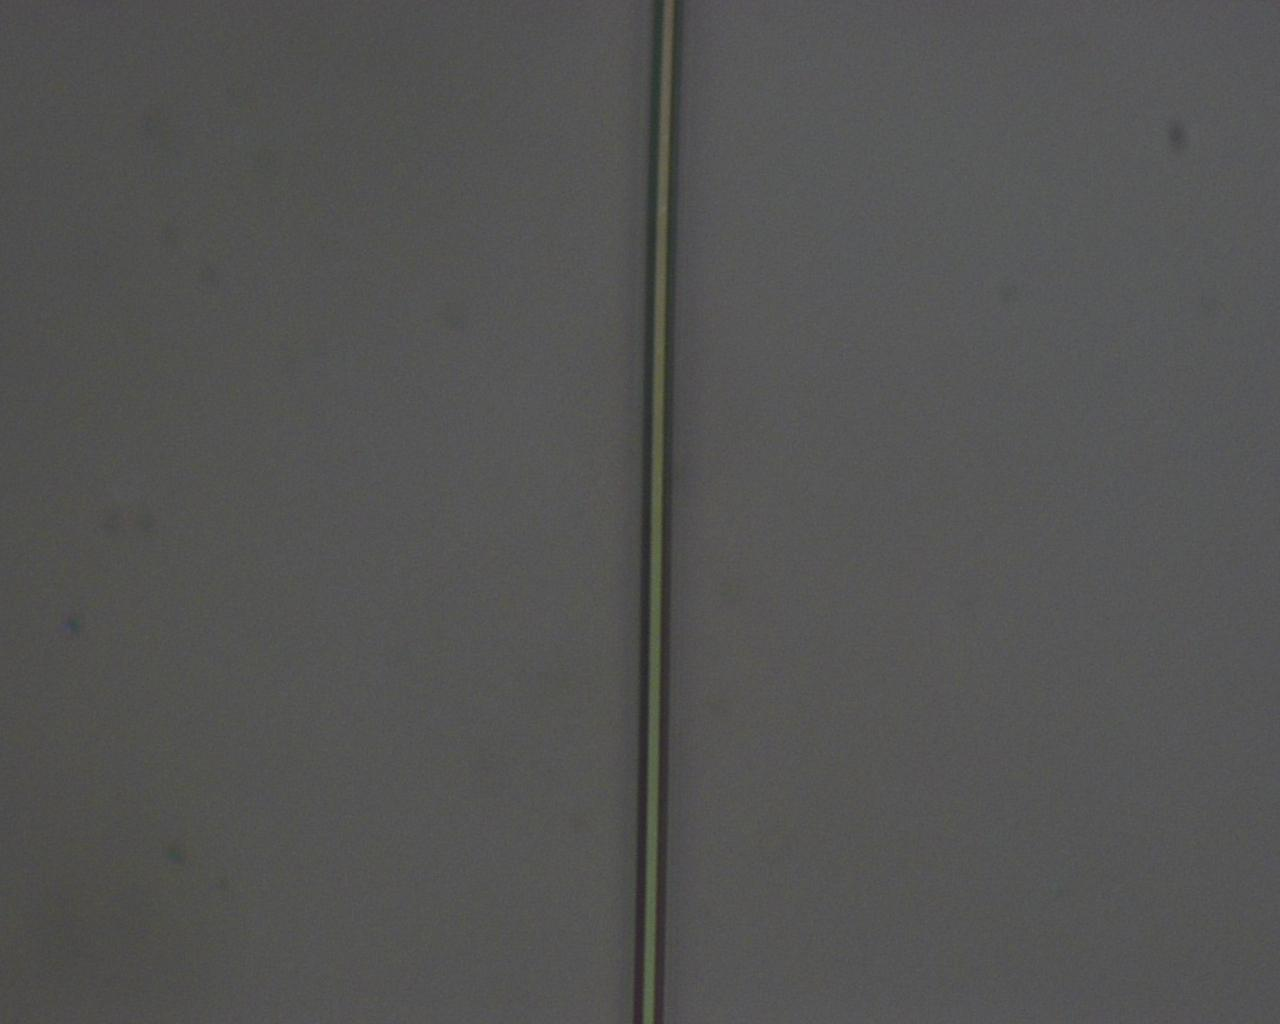fiber: (589, 0, 651, 1024)
